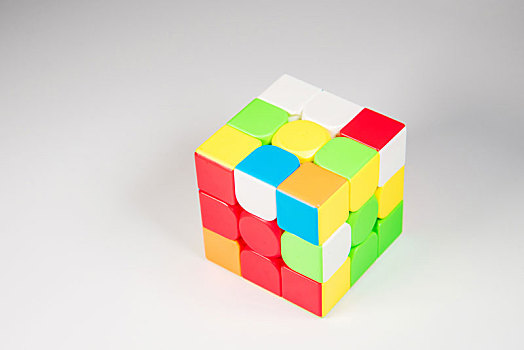cube: (192, 73, 405, 319)
